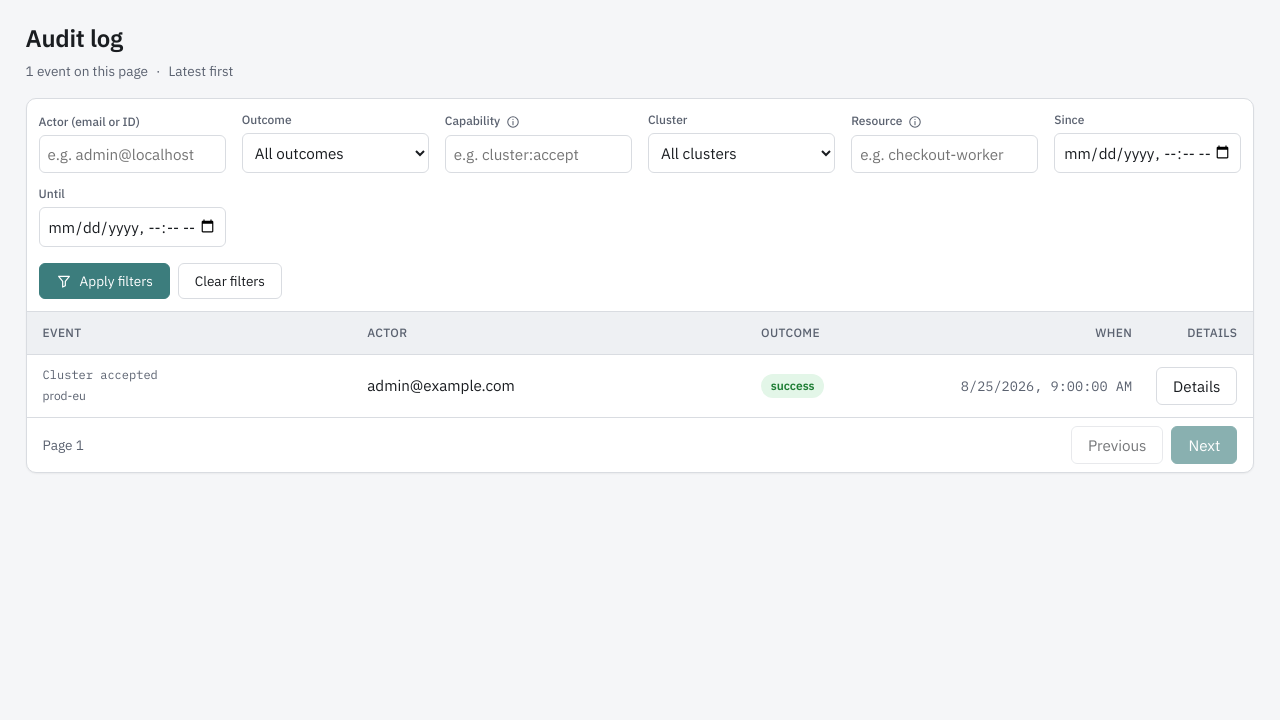
Test: AuditLogPage — filters › distinguishes "no events match these filters" from "nothing recorded yet"
Expected: the text "admin@example.com" is shown, [367,376,515,396]
Step 1. Type "nobody@example.com" into the field labelled "Actor (email or ID)" → (132, 154), box [39,135,226,173]
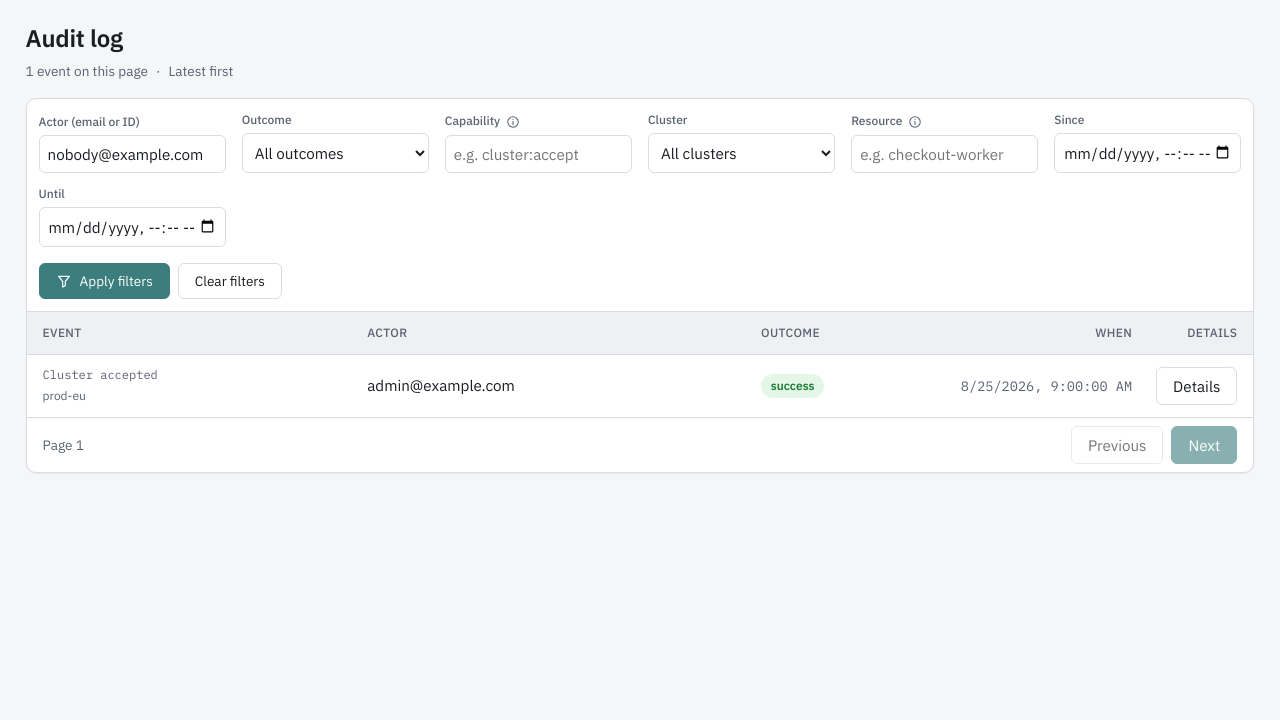
Step 2. Click the button "Apply filters" → click(104, 281), box [39,263,170,299]
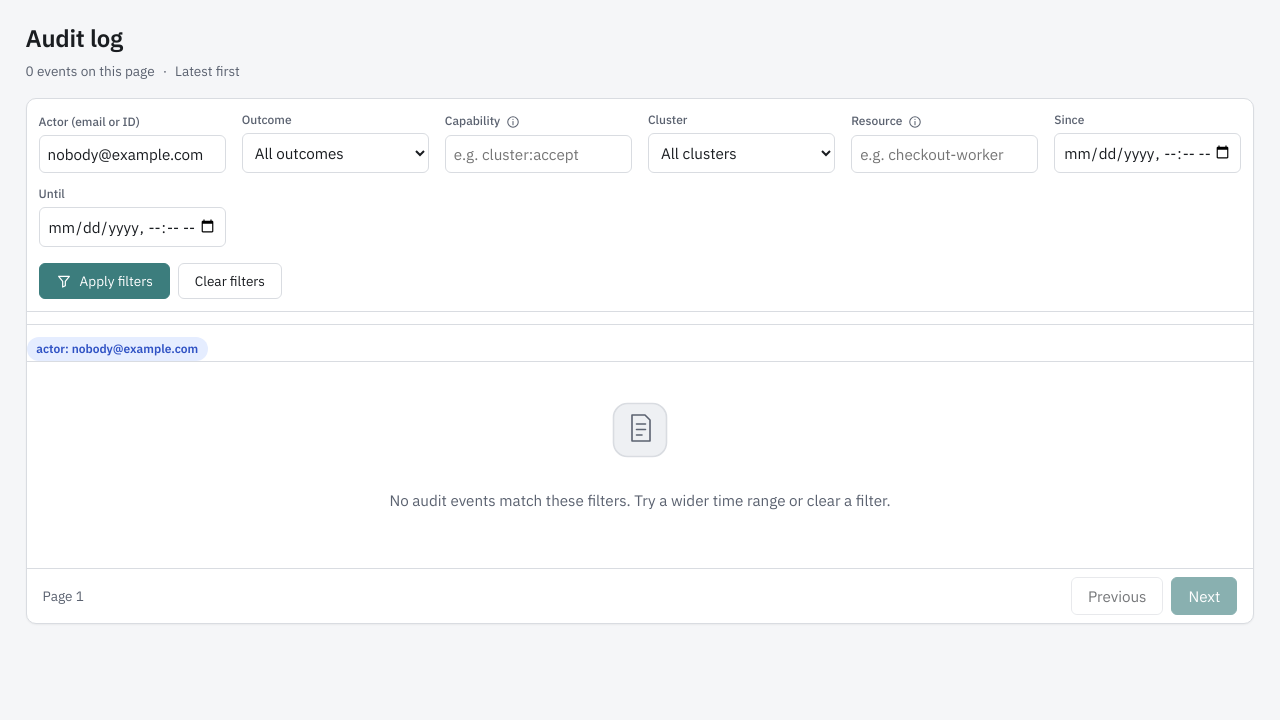
Expected: the text "No audit events match these filters" is shown, [389,490,891,510]
